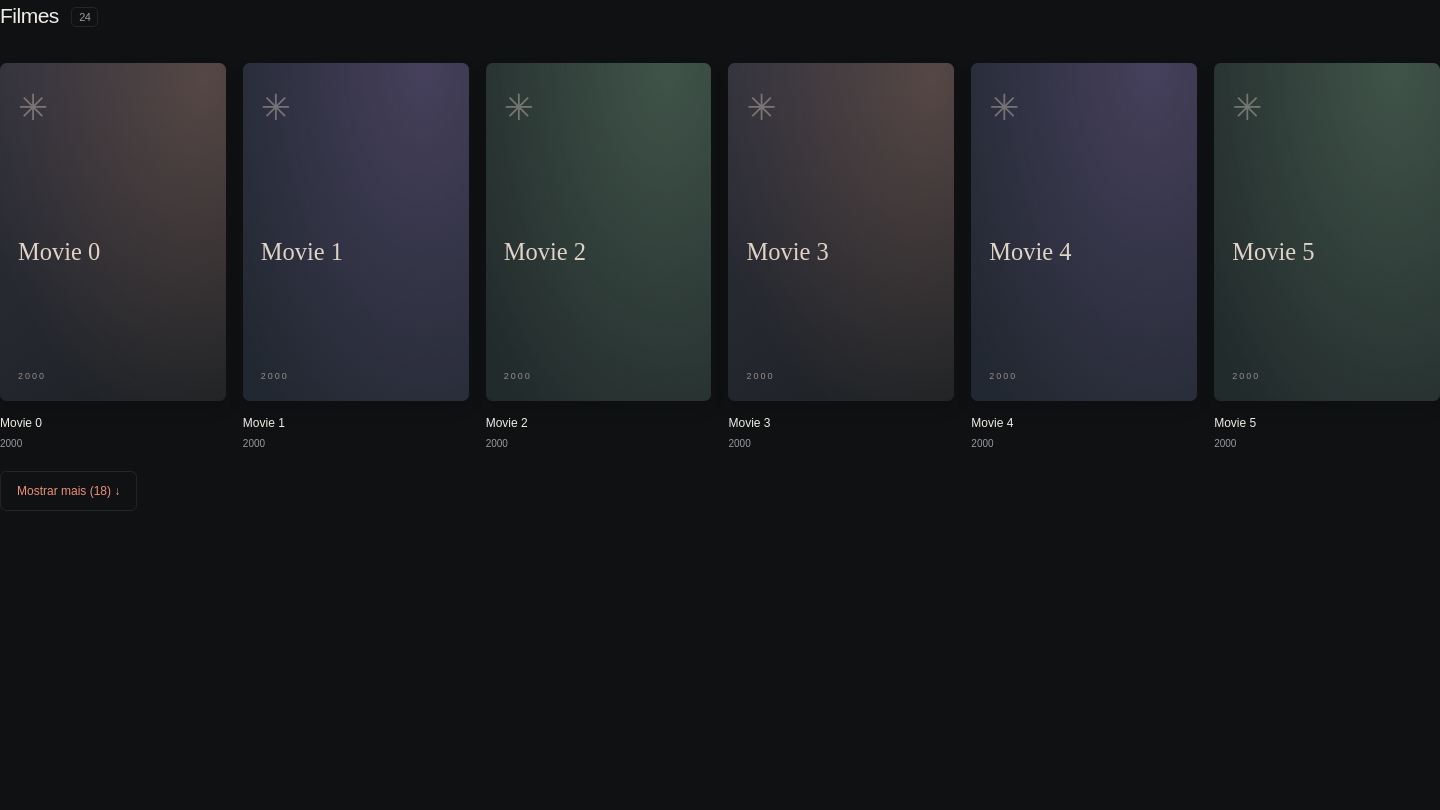
Test: observes additional cards after Mostrar mais and fetches them on intersection
Click the button "Mostrar mais (18) ↓" at (69, 491), box [0,471,137,511]
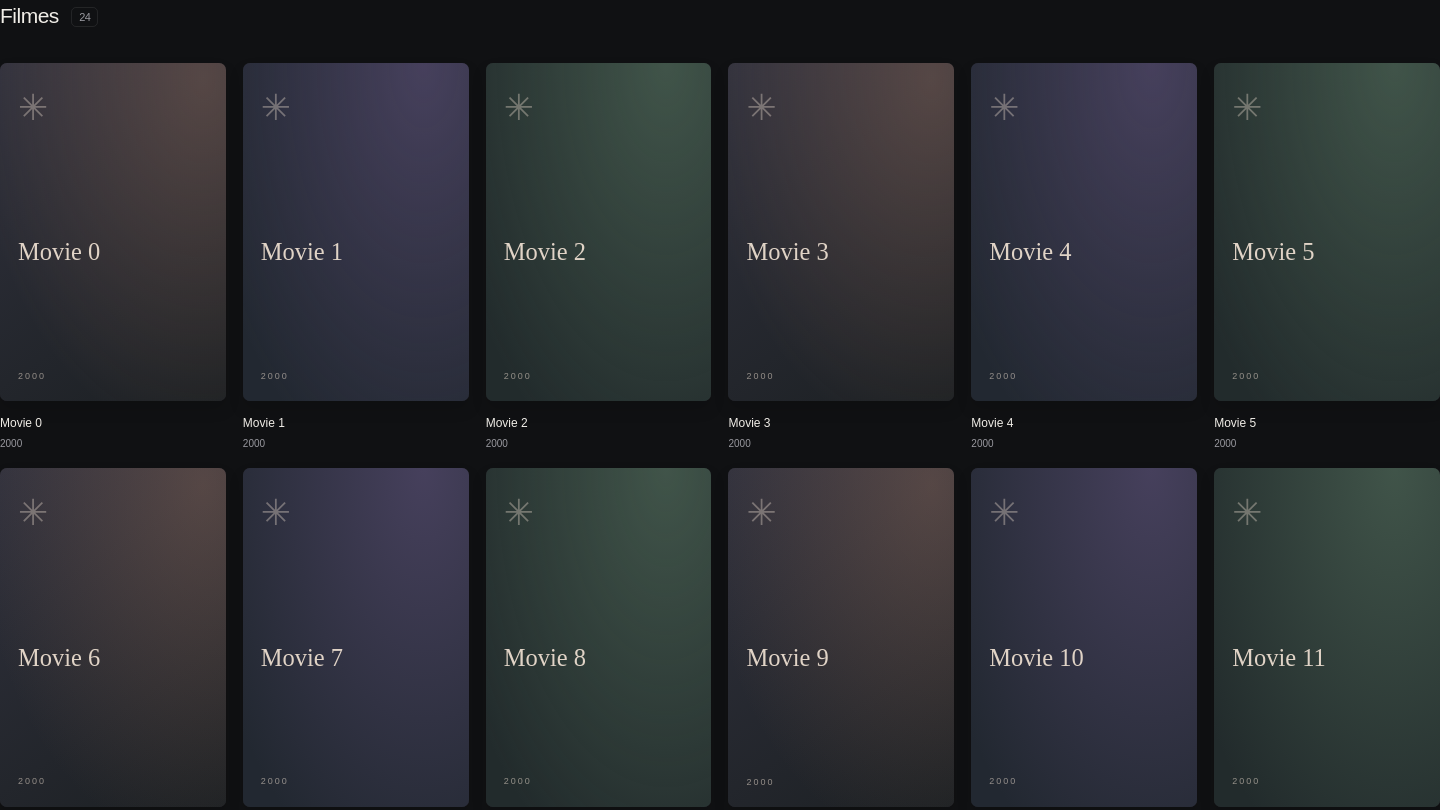
Expected: the number of elements with class "movie-card" is 24
